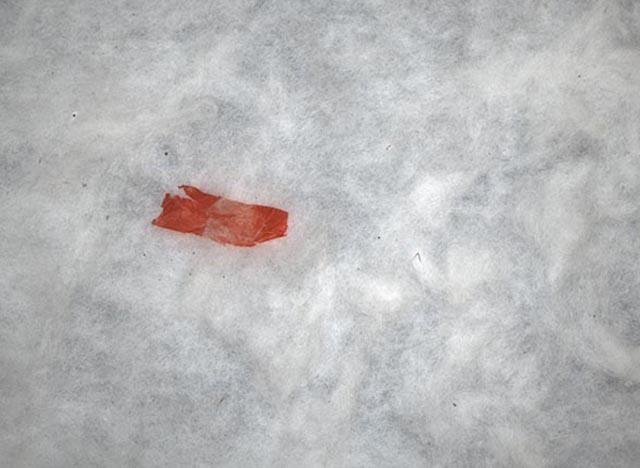plastic film: (151, 183, 290, 246)
